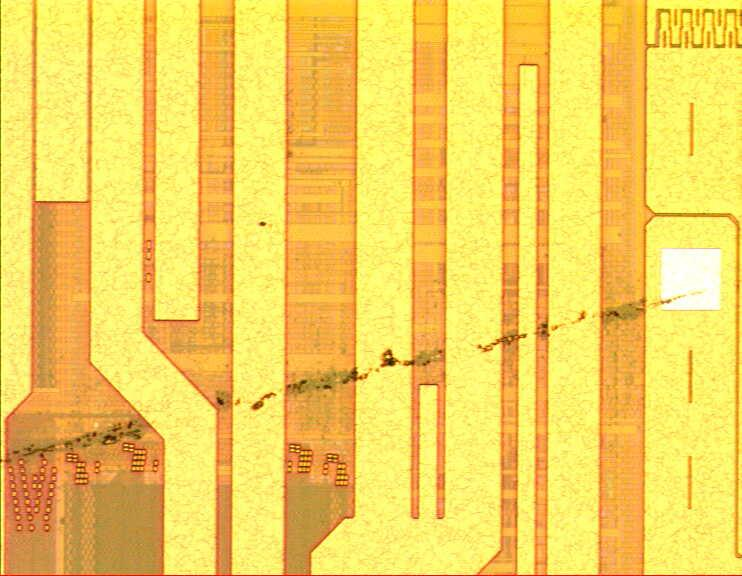SCRATCH: (1, 275, 724, 476)
